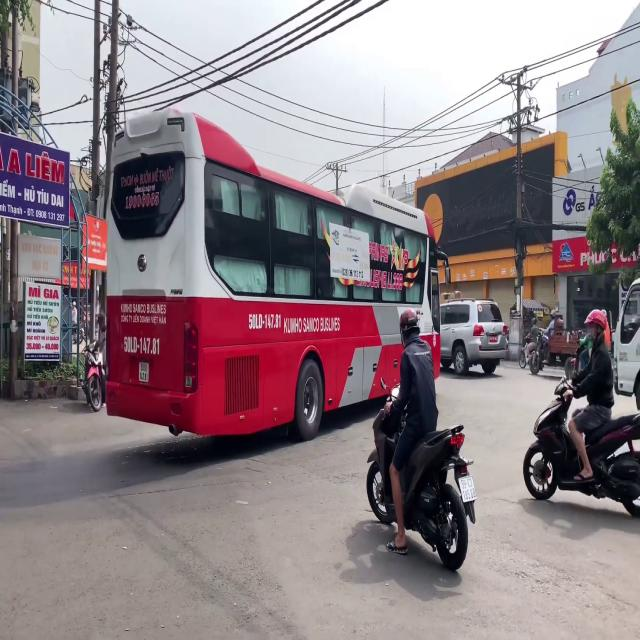bien_trang: (457, 476, 480, 502), (137, 358, 149, 382)
